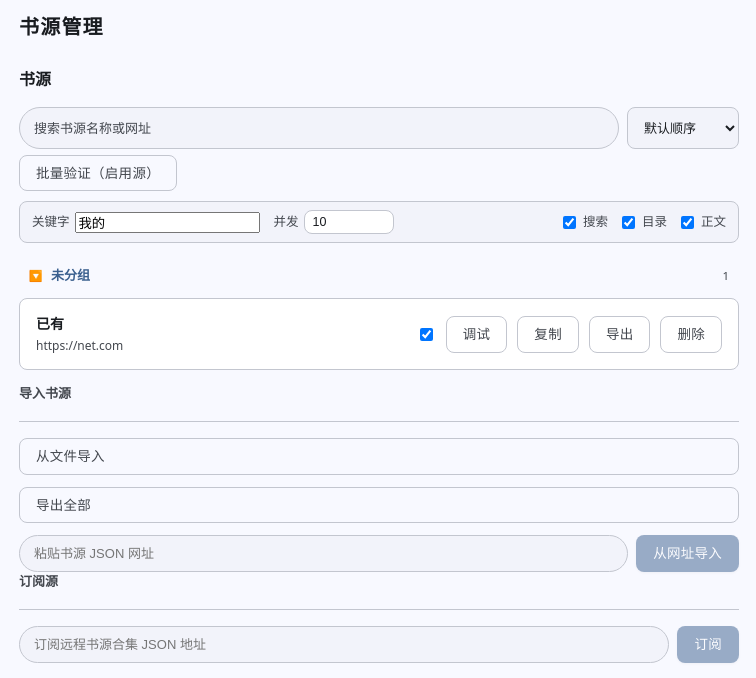
Test: BookSourceManager › skips single source that already exists
Expected: the text "已有" is shown, [36,314,64,333]
Type "https://example.com/source.json" into the field named "书源网址" at (324, 554), box [19,535,628,572]
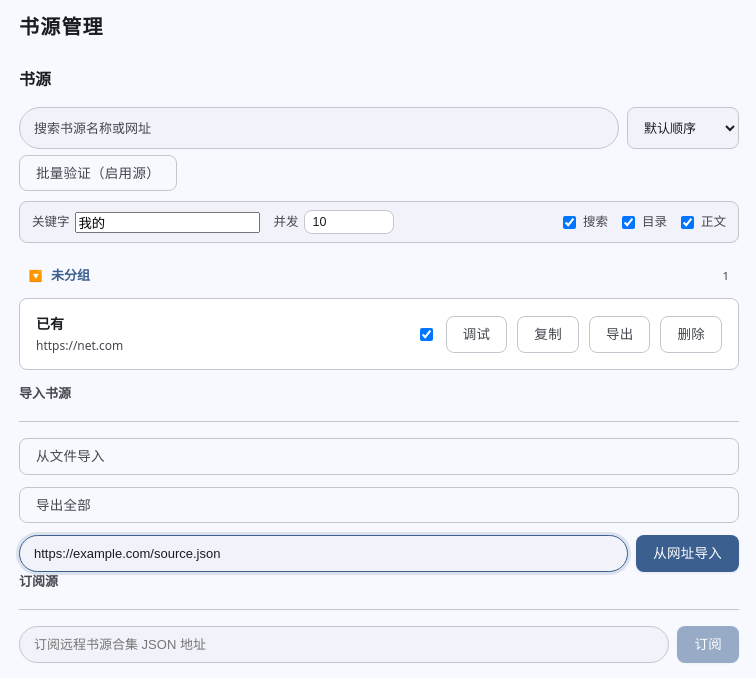
Click the button "从网址导入" at (688, 554), box [636,535,739,572]
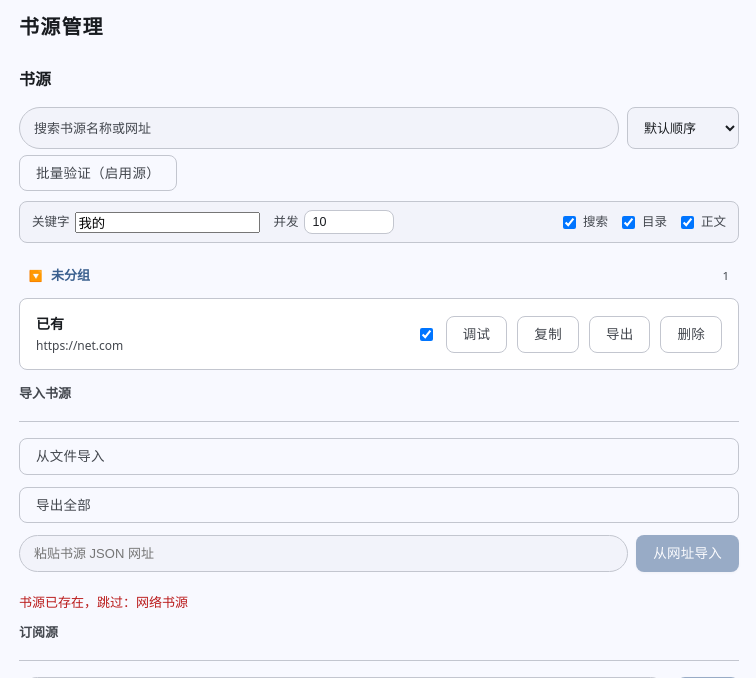
Now the text "书源已存在，跳过：网络书源" is shown, box [19,593,188,611]
